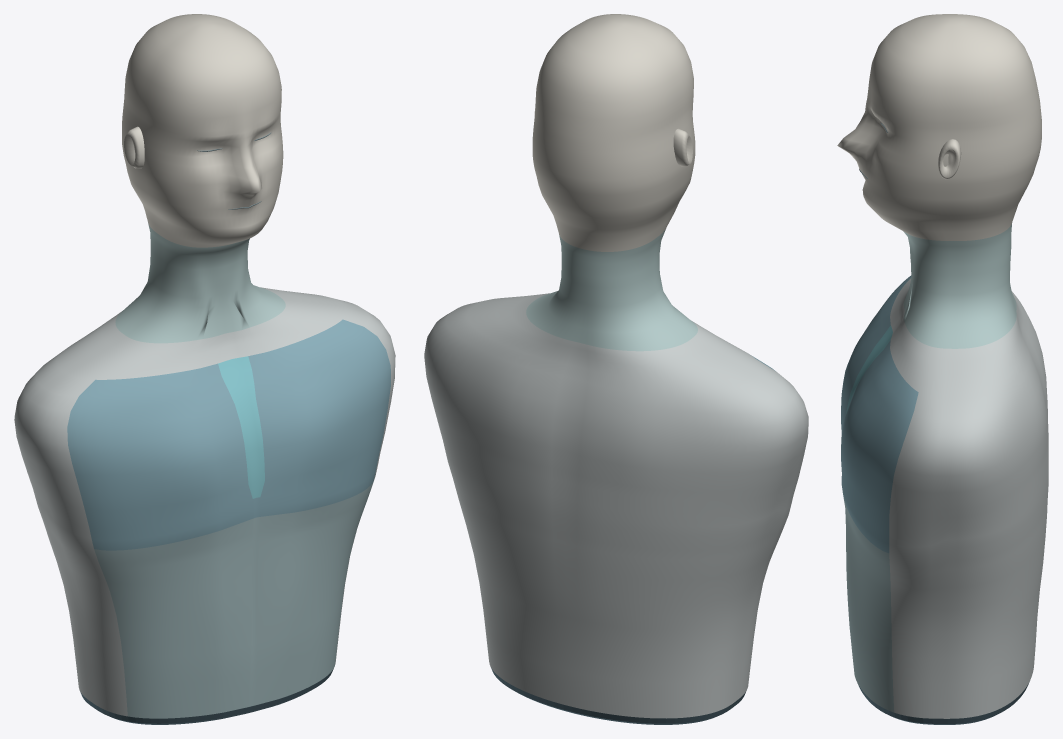
The model's file is EDU_AnatomyTorso.glb.
3 views of the same model, side by side, from view 1: azimuth 30°, elevation 25°; view 2: azimuth 150°, elevation 25°; view 3: azimuth 270°, elevation 25° (orthographic).
Parts seen in each view (by area): view 1: EDU_AnatomySurface, EDU_Ear_R; view 2: EDU_AnatomySurface, EDU_Ear_R; view 3: EDU_AnatomySurface, EDU_Ear_L.
Boxes of the visible parts, bbox=[...] form: EDU_AnatomySurface: bbox=[14, 14, 395, 724]; EDU_Ear_R: bbox=[124, 126, 144, 168]; EDU_AnatomySurface: bbox=[424, 14, 808, 724]; EDU_Ear_R: bbox=[673, 128, 692, 166]; EDU_AnatomySurface: bbox=[837, 14, 1048, 724]; EDU_Ear_L: bbox=[938, 139, 961, 179].
Bounding box in the file's own units: 0.48 × 0.8315 × 0.2445.
